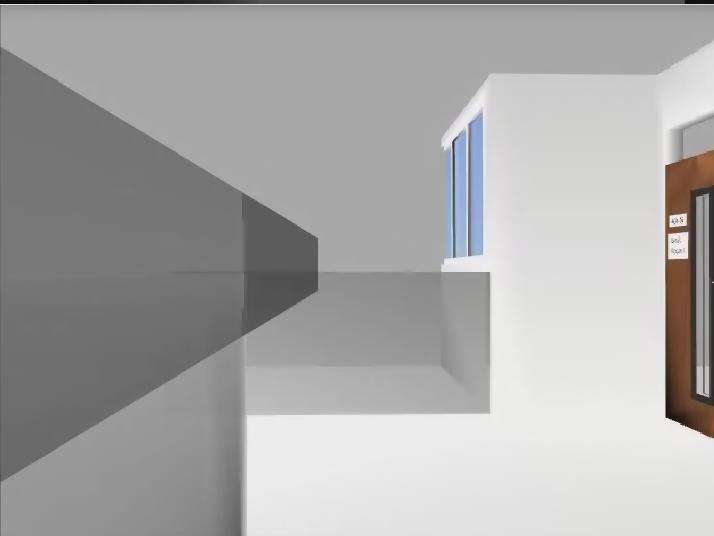door: (665, 150, 714, 438)
